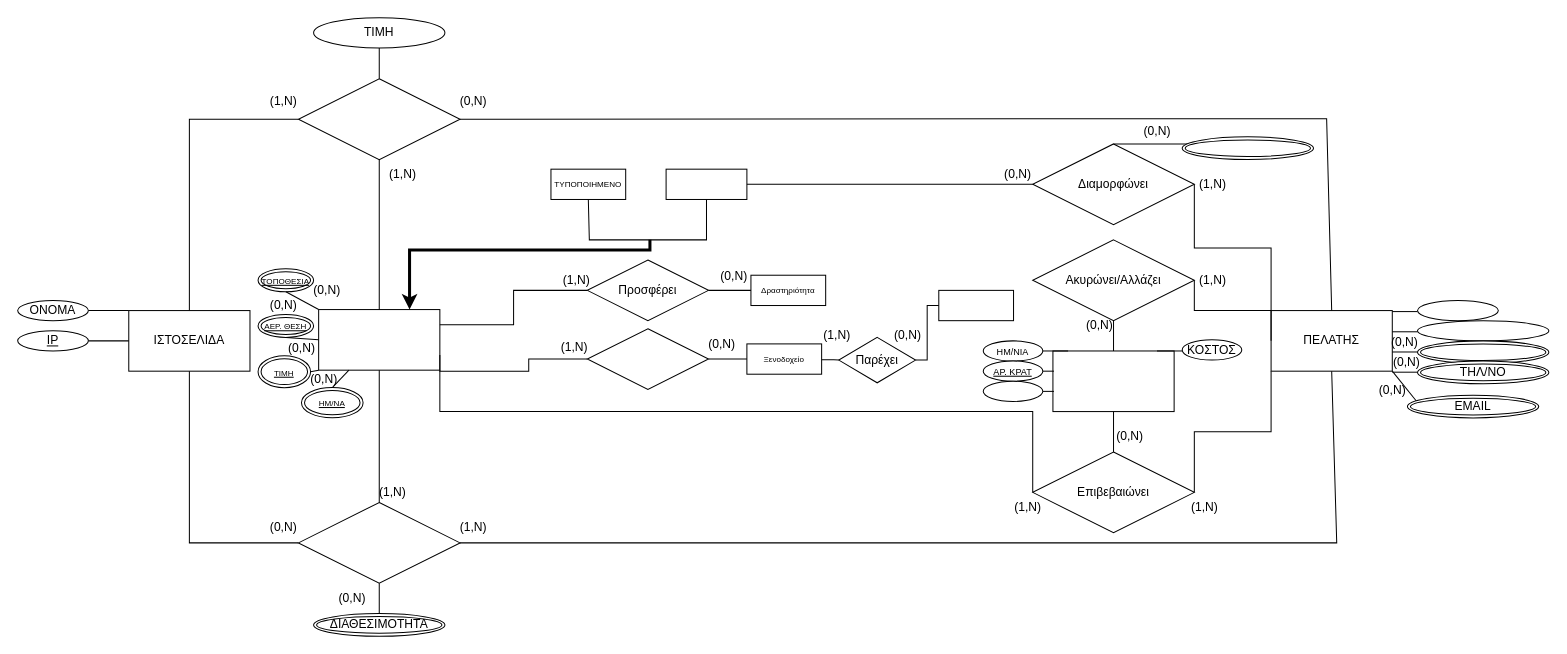
The diagram is 1567 pixels wide and 654 high, and some of its shapes have lost their labels. Each missing label, with the box of its shape:
Αξιοποιεί: (586, 328, 709, 389)
ΑΡ. ΠΕΛΑΤΗ: (1417, 299, 1498, 321)
ΔΙΕΥΘΥΝΣΗ: (1417, 340, 1549, 364)
ΔΙΟΡ. ΠΛΗΡ.: (982, 380, 1043, 401)
Εμφανίζει: (297, 78, 460, 160)
Ενημερώνει: (297, 501, 460, 583)
ΕΞΑΤΟΜΙΚΕΥΜΕΝΟ: (665, 168, 747, 199)
ΚΡΑΤΗΣΗ: (1052, 350, 1174, 412)
ΟΝΟΜΑΤΕΠΩΝΥΜΟ: (1417, 320, 1549, 341)
ΠΑΚΕΤΟ: (318, 309, 440, 370)
ΣΤΟΙΧ. ΠΑΚΕΤΟΥ: (1181, 136, 1314, 160)
Υπηρεσία: (938, 289, 1014, 321)
